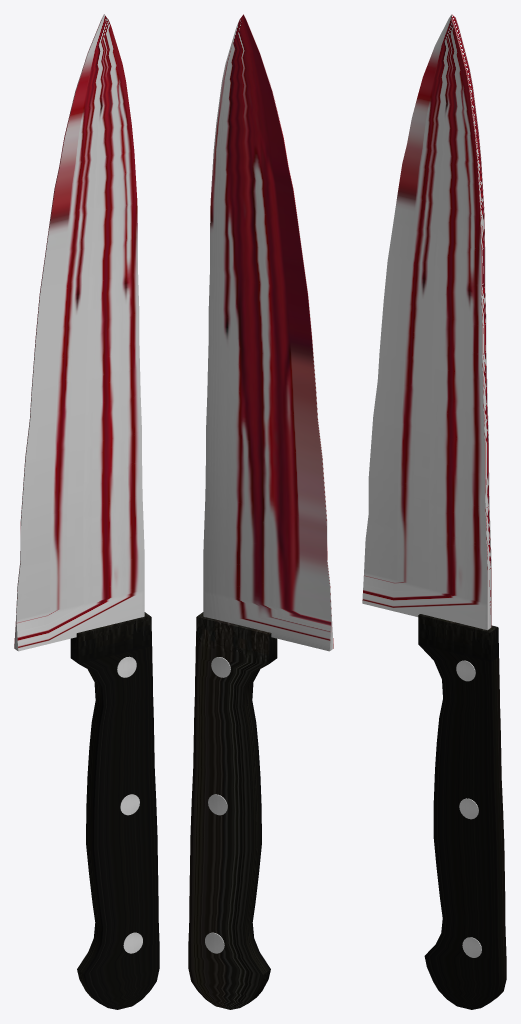
Rendered from Cuchillo_sangre_unity.fbx.
The picture shows the model from 3 angles, left to right: view 1: azimuth 30°, elevation 25°; view 2: azimuth 150°, elevation 25°; view 3: azimuth 330°, elevation 25°; orthographic projection.
Parts seen in each view (by area): view 1: corte, base; view 2: corte, base; view 3: corte, base.
Boxes of the visible parts, x1,y1,x2,y2 form: corte: (14, 14, 144, 651); base: (70, 612, 159, 1009); corte: (203, 14, 333, 651); base: (188, 612, 277, 1009); corte: (362, 14, 491, 630); base: (418, 614, 506, 1009).
Bounding box in the file's own units: 2.26 × 15.42 × 0.2426.
